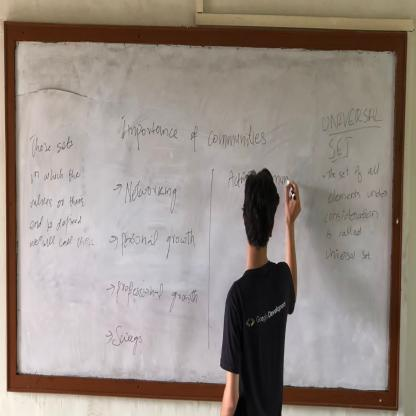Handwritten text: (116, 105, 269, 155), (113, 272, 203, 317), (118, 219, 203, 264), (123, 168, 184, 217), (316, 101, 385, 133), (111, 316, 146, 355), (28, 131, 76, 159), (28, 162, 81, 187), (325, 162, 385, 184), (26, 189, 86, 211), (24, 213, 88, 233), (326, 186, 389, 204), (325, 244, 374, 267), (322, 208, 383, 225), (317, 225, 364, 242), (324, 135, 352, 160)
Lecturer: (214, 162, 297, 416)
Whiteboard: (5, 37, 397, 394)
